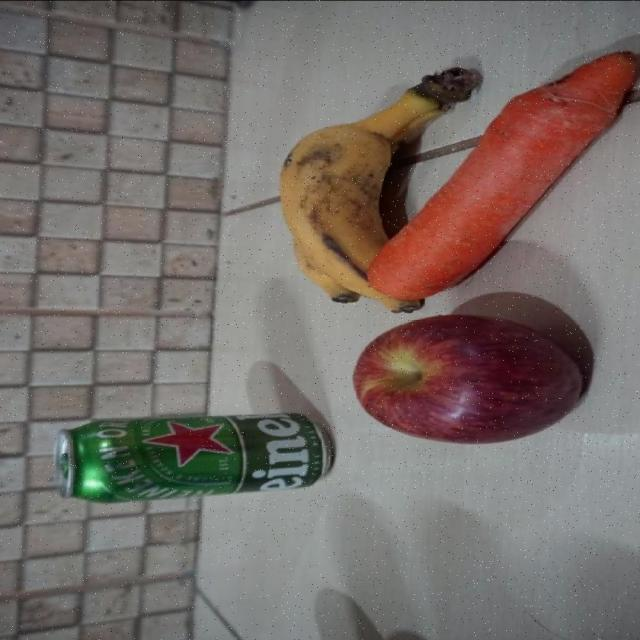Apple: (352, 315, 591, 446)
Banana: (279, 69, 426, 312)
BeerCan: (54, 409, 329, 504)
Carrot: (368, 49, 640, 301)
